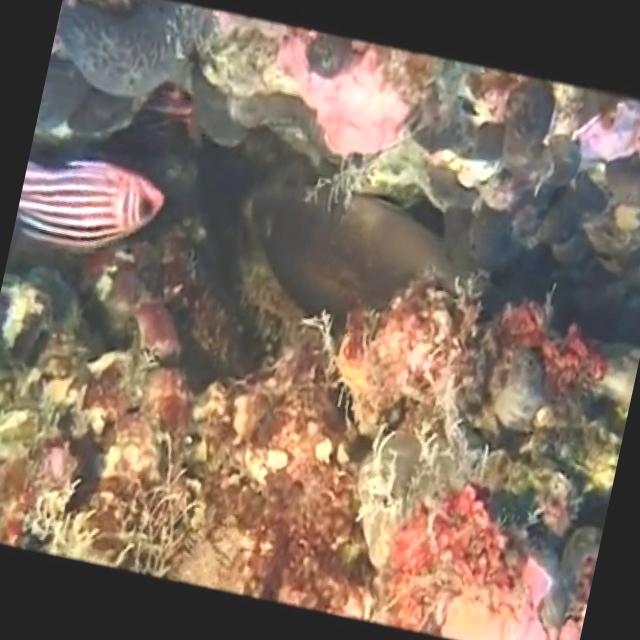Asker Baligi: (12, 140, 172, 270)
